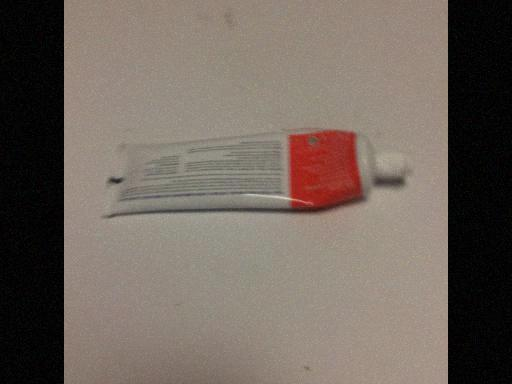paper: (93, 126, 365, 223)
